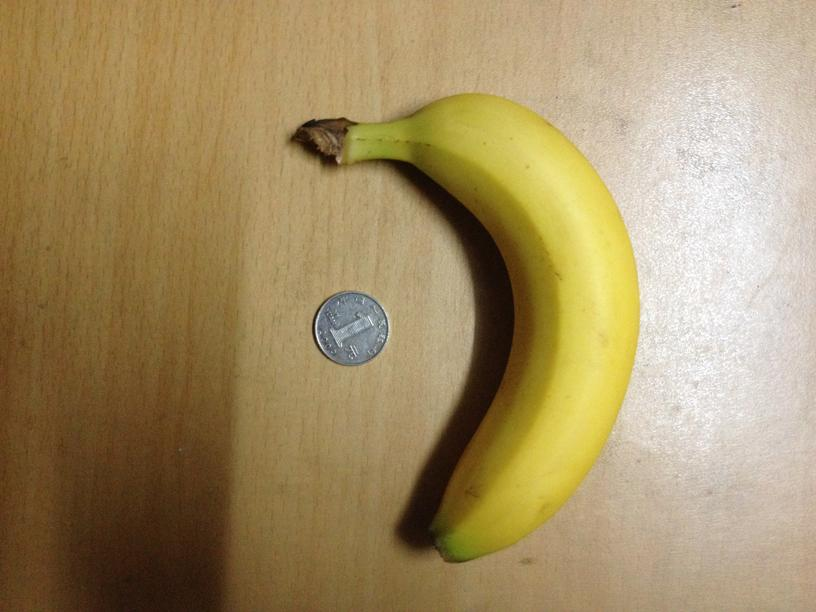banana: (362, 89, 640, 565)
coin: (313, 287, 390, 366)
